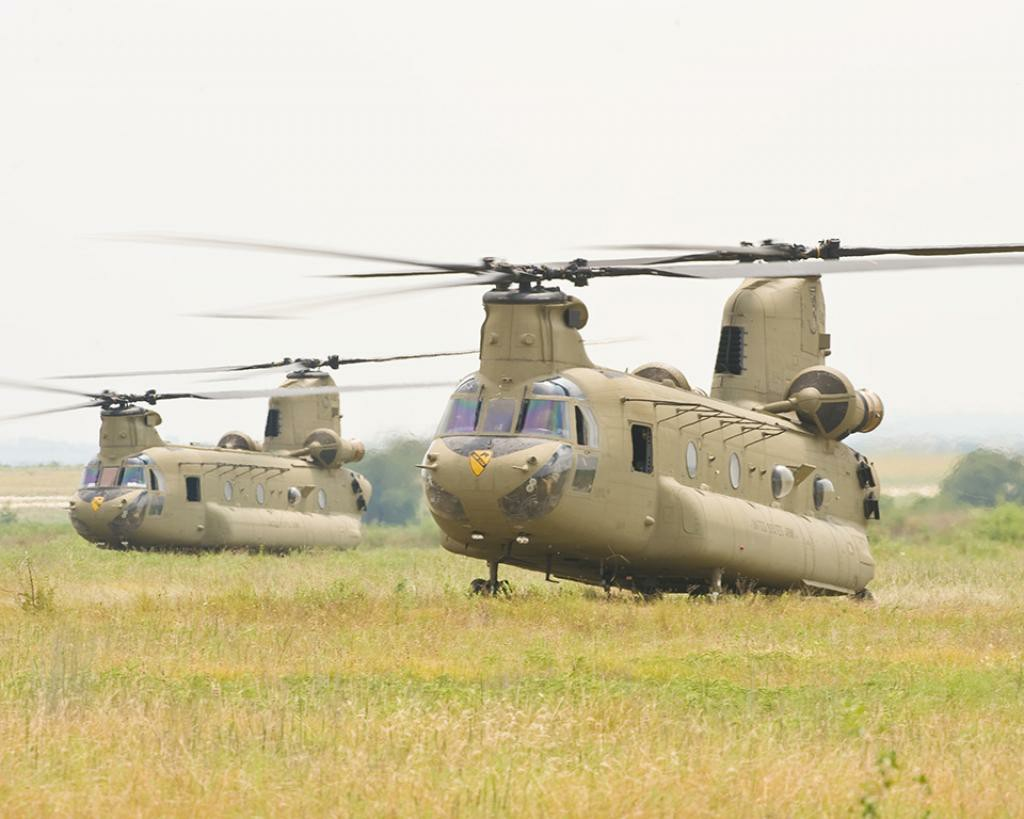chinook: (413, 226, 968, 594), (19, 347, 376, 559)
